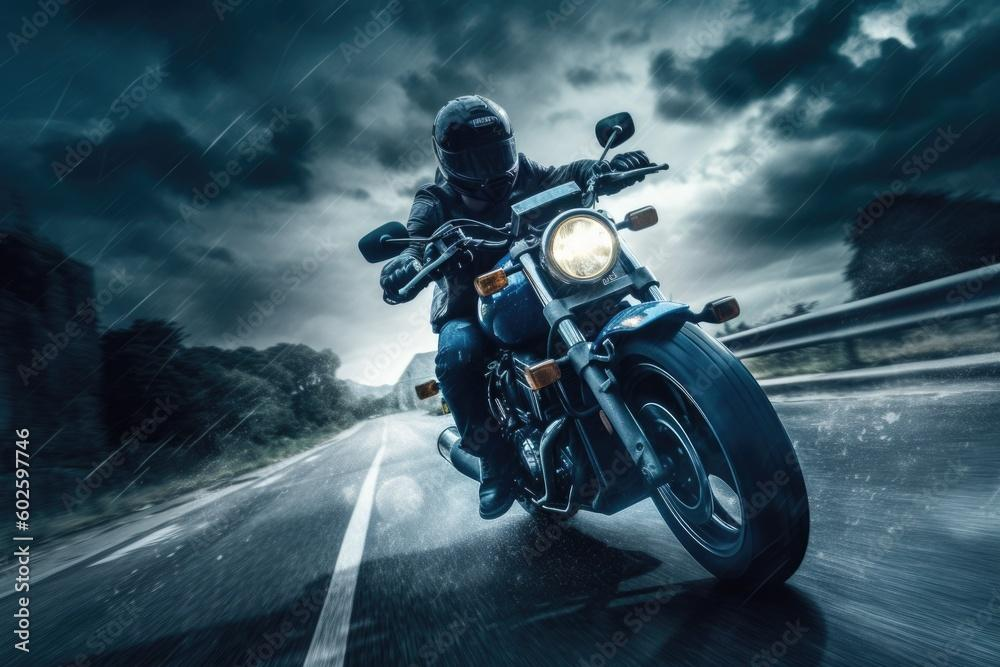helmet: (431, 93, 521, 205)
